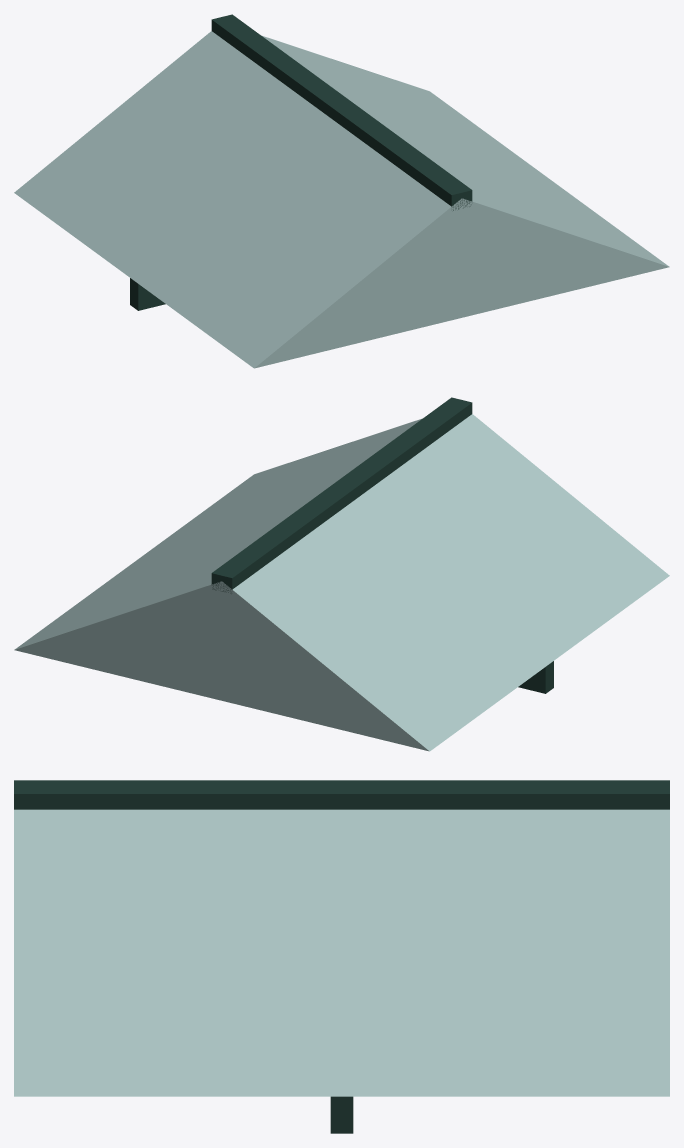
File: iron-roof.glb
3 views of the same model, one above another, from view 1: azimuth 30°, elevation 25°; view 2: azimuth 150°, elevation 25°; view 3: azimuth 270°, elevation 25° (orthographic). The views are drawn at different scales.
Parts seen in each view (by area): view 1: iron-roof; view 2: iron-roof; view 3: iron-roof.
Part boxes in pixels (x1,y1,x2,y2): iron-roof: [14, 14, 669, 368]; iron-roof: [14, 397, 669, 751]; iron-roof: [14, 780, 669, 1133].
Size of the model in its own units: 4 by 1.4 by 4.
